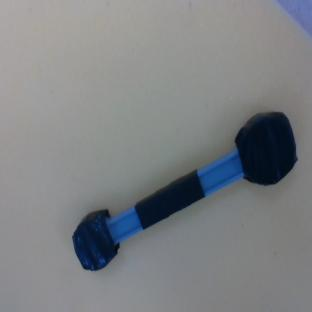part_3_bad: (56, 102, 311, 276)
